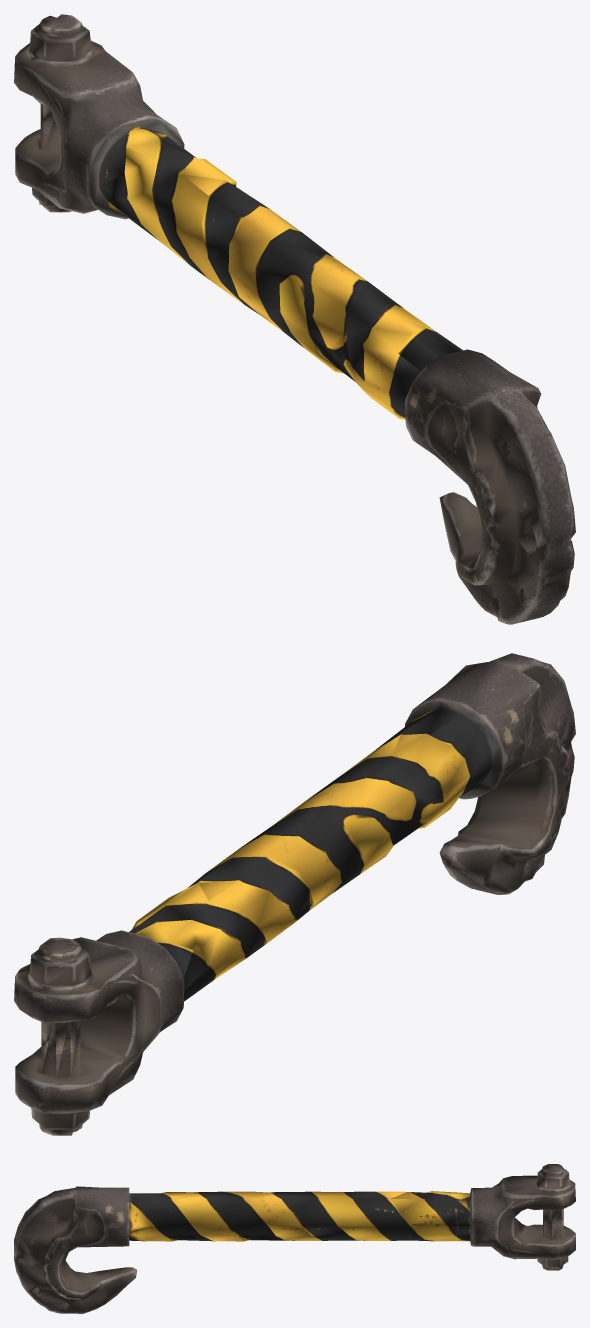
Rendered from hook_modern.glb.
3 renders of one model, top to bottom at view 1: azimuth 30°, elevation 25°; view 2: azimuth 150°, elevation 25°; view 3: azimuth 270°, elevation 25°, orthographic. The views are drawn at different scales.
Parts seen in each view (by area): view 1: tripo_node_98974dff-3037-444e-8a96-54acc; view 2: tripo_node_98974dff-3037-444e-8a96-54acc; view 3: tripo_node_98974dff-3037-444e-8a96-54acc.
Part boxes in pixels (x1,y1,x2,y2): tripo_node_98974dff-3037-444e-8a96-54acc: (14,14,575,624); tripo_node_98974dff-3037-444e-8a96-54acc: (14,653,575,1135); tripo_node_98974dff-3037-444e-8a96-54acc: (14,1164,575,1313).
Bounding box in the file's own units: 0.1115 × 0.2797 × 1.
Materials: 1 (1 with a texture image).
